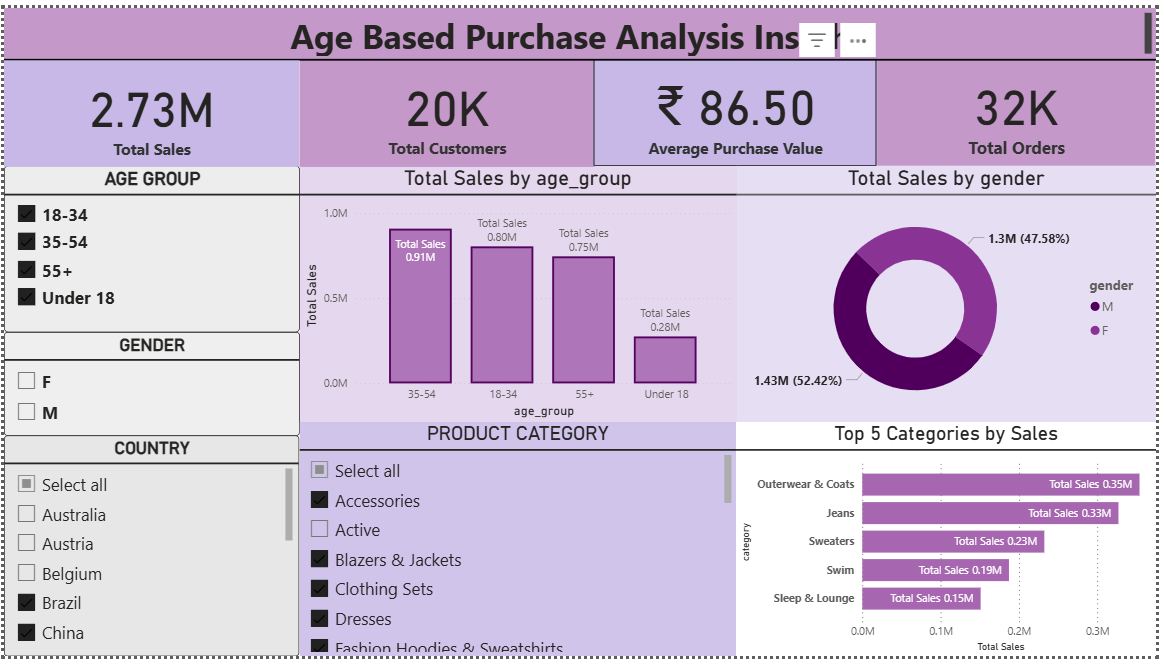

What the dashboard file says about the page in this screenshot:
{"tool":"powerbi","page":{"name":"Page 1","canvas":[1280,720],"ordinal":0},"visuals":[{"type":"textbox","box":[0,0,1280,57.4],"z":0},{"type":"card","fields":{"Values":["vw_AgePurchaseAnalysis.Total Customers"]},"box":[328,56,328,120],"z":2000},{"type":"card","fields":{"Values":["vw_AgePurchaseAnalysis.Total Orders"]},"box":[969.7,56.5,309.6,118.8],"z":3000},{"type":"card","fields":{"Values":["vw_AgePurchaseAnalysis.Average Purchase Value"]},"box":[655,56.7,315,118.3],"z":4000},{"type":"clusteredColumnChart","fields":{"Category":["vw_AgePurchaseAnalysis.age_group"],"Y":["vw_AgePurchaseAnalysis.Total Sales"]},"box":[328.3,175,485,285],"z":5000},{"type":"donutChart","fields":{"Category":["vw_AgePurchaseAnalysis.gender"],"Y":["vw_AgePurchaseAnalysis.Total Sales"]},"box":[813.3,175,466.7,285],"z":6000},{"type":"shape","box":[0,20,1280,75],"z":7000},{"type":"slicer","title":"AGE GROUP","fields":{"Values":["vw_AgePurchaseAnalysis.age_group"]},"box":[0,175,328.3,185],"z":8000},{"type":"slicer","title":"GENDER","fields":{"Values":["vw_AgePurchaseAnalysis.gender"]},"box":[0,360,328.3,115],"z":9000},{"type":"slicer","title":"COUNTRY","fields":{"Values":["vw_AgePurchaseAnalysis.country"]},"box":[0,475,328,245],"z":10000},{"type":"slicer","title":"PRODUCT CATEGORY","fields":{"Values":["vw_AgePurchaseAnalysis.category"]},"box":[328.3,460,485,260],"z":11000},{"type":"clusteredBarChart","title":"Top 5 Categories by Sales","fields":{"Category":["vw_AgePurchaseAnalysis.category"],"Y":["vw_AgePurchaseAnalysis.Total Sales"]},"box":[813,460,467,260],"z":12000},{"type":"card","fields":{"Values":["vw_AgePurchaseAnalysis.Total Sales"]},"box":[0,58,328,118],"z":12001}]}

Visuals, with their boxes in screenshot pixels (x1, y1, x2, y2):
textbox: <region>3, 36, 1151, 88</region>
card - vw_AgePurchaseAnalysis.Total Customers: <region>297, 87, 591, 194</region>
card - vw_AgePurchaseAnalysis.Total Orders: <region>873, 87, 1150, 194</region>
card - vw_AgePurchaseAnalysis.Average Purchase Value: <region>590, 87, 873, 193</region>
clusteredColumnChart - vw_AgePurchaseAnalysis.age_group x vw_AgePurchaseAnalysis.Total Sales: <region>297, 193, 732, 449</region>
donutChart - vw_AgePurchaseAnalysis.gender x vw_AgePurchaseAnalysis.Total Sales: <region>732, 193, 1151, 449</region>
shape: <region>3, 54, 1151, 122</region>
"AGE GROUP" slicer: <region>3, 193, 297, 359</region>
"GENDER" slicer: <region>3, 359, 297, 462</region>
"COUNTRY" slicer: <region>3, 462, 297, 666</region>
"PRODUCT CATEGORY" slicer: <region>297, 449, 732, 666</region>
"Top 5 Categories by Sales" clusteredBarChart: <region>732, 449, 1151, 666</region>
card - vw_AgePurchaseAnalysis.Total Sales: <region>3, 88, 297, 194</region>
